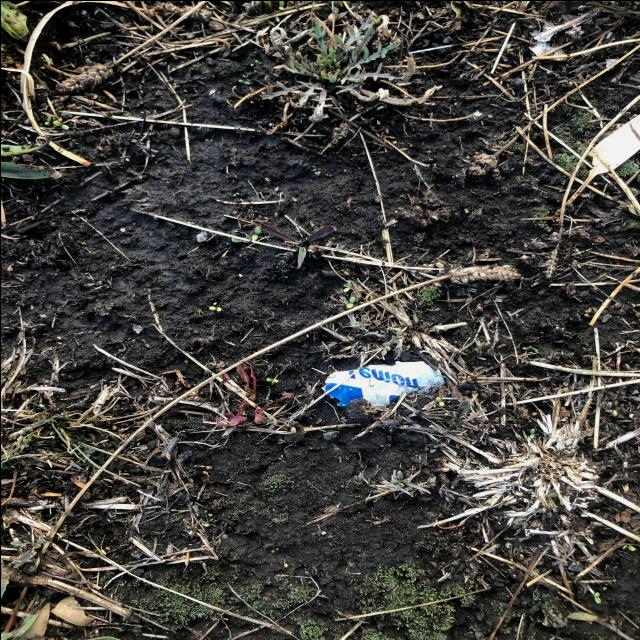Unlabeled litter: (320, 360, 442, 405)
